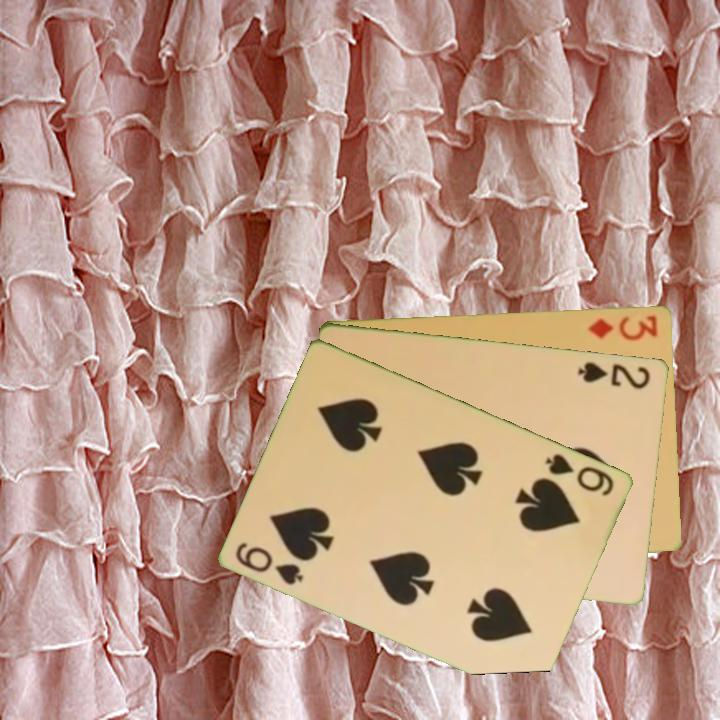2s: (575, 358, 654, 392)
3d: (584, 311, 661, 343)
6s: (542, 450, 618, 500), (232, 538, 307, 588)
